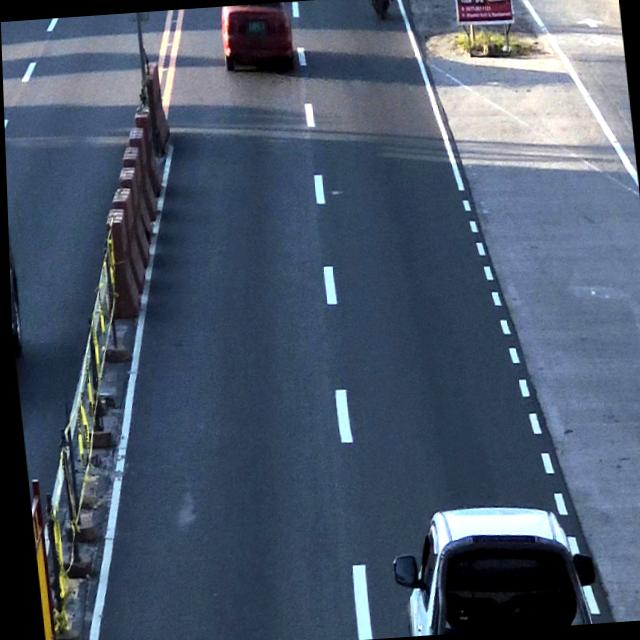Car: (377, 489, 601, 637), (215, 1, 299, 74)
